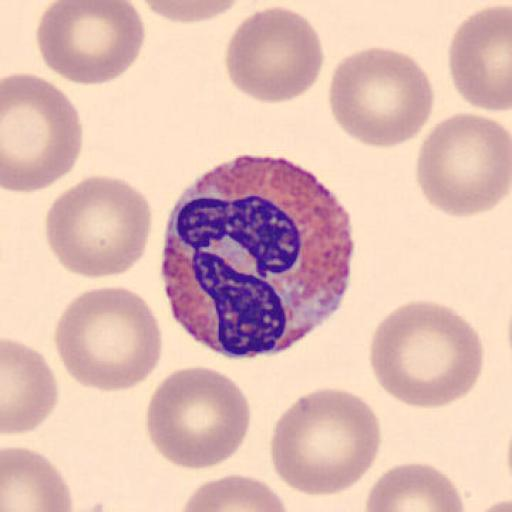RBC: (368, 297, 485, 410), (268, 385, 382, 498), (52, 284, 164, 394), (45, 174, 154, 282), (144, 364, 252, 470), (328, 44, 436, 150), (414, 110, 510, 219), (2, 71, 85, 194), (224, 4, 325, 104), (35, 0, 146, 87), (446, 2, 512, 113), (2, 336, 58, 436), (364, 461, 468, 512), (1, 444, 74, 512), (176, 471, 292, 512), (135, 0, 249, 23), (471, 495, 512, 512)
WBC: (160, 156, 356, 357)
